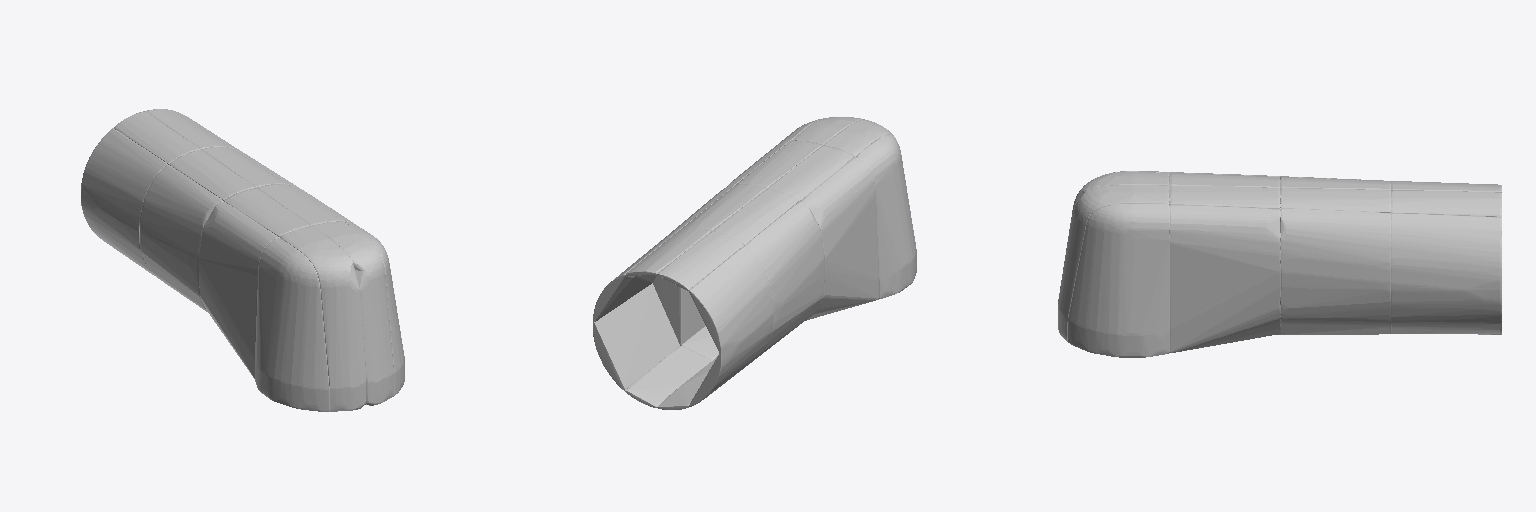
File: arm-L3_split.obj
The picture shows the model from 3 angles: view 1: azimuth 30°, elevation 25°; view 2: azimuth 150°, elevation 25°; view 3: azimuth 270°, elevation 25°; orthographic projection.
Parts seen in each view (by area): view 1: geometry_4, geometry_3, geometry_2, geometry_12, geometry_0, geometry_20, geometry_5, geometry_1, geometry_7, geometry_10, geometry_11, geometry_19 (+4 smaller); view 2: geometry_3, geometry_2, geometry_4, geometry_22, geometry_0, geometry_14, geometry_5, geometry_1, geometry_7, geometry_23, geometry_10, geometry_17 (+7 smaller); view 3: geometry_24, geometry_25, geometry_23, geometry_21, geometry_22, geometry_13, geometry_15, geometry_17, geometry_20, geometry_19, geometry_10, geometry_7 (+2 smaller).
Part boxes in pixels (left/top/right/bottom): geometry_4: left=255, top=238, right=329, bottom=411; geometry_3: left=199, top=202, right=279, bottom=378; geometry_2: left=140, top=165, right=223, bottom=311; geometry_12: left=315, top=265, right=365, bottom=411; geometry_0: left=81, top=128, right=167, bottom=230; geometry_20: left=355, top=260, right=393, bottom=405; geometry_5: left=114, top=111, right=199, bottom=164; geometry_1: left=81, top=192, right=152, bottom=274; geometry_7: left=169, top=150, right=254, bottom=200; geometry_10: left=224, top=188, right=309, bottom=236; geometry_11: left=280, top=226, right=353, bottom=268; geometry_19: left=312, top=221, right=381, bottom=270; geometry_3: left=801, top=157, right=878, bottom=320; geometry_2: left=745, top=201, right=824, bottom=355; geometry_4: left=856, top=135, right=916, bottom=298; geometry_22: left=593, top=283, right=679, bottom=390; geometry_0: left=689, top=246, right=773, bottom=352; geometry_14: left=625, top=346, right=711, bottom=407; geometry_5: left=657, top=231, right=743, bottom=290; geometry_1: left=689, top=313, right=773, bottom=406; geometry_7: left=713, top=188, right=798, bottom=245; geometry_23: left=653, top=185, right=734, bottom=345; geometry_10: left=769, top=145, right=853, bottom=200; geometry_17: left=736, top=140, right=822, bottom=187; geometry_24: left=1169, top=205, right=1280, bottom=352; geometry_25: left=1068, top=204, right=1169, bottom=357; geometry_23: left=1280, top=209, right=1390, bottom=334; geometry_21: left=1391, top=213, right=1501, bottom=287; geometry_22: left=1391, top=287, right=1501, bottom=333; geometry_13: left=1391, top=190, right=1501, bottom=216; geometry_15: left=1280, top=188, right=1390, bottom=212; geometry_17: left=1169, top=186, right=1280, bottom=208; geometry_20: left=1058, top=202, right=1090, bottom=341; geometry_19: left=1078, top=185, right=1169, bottom=213; geometry_10: left=1169, top=173, right=1280, bottom=187; geometry_7: left=1280, top=177, right=1390, bottom=189.
Bounding box in the file's own units: 0.0749 × 0.0793 × 0.2227.